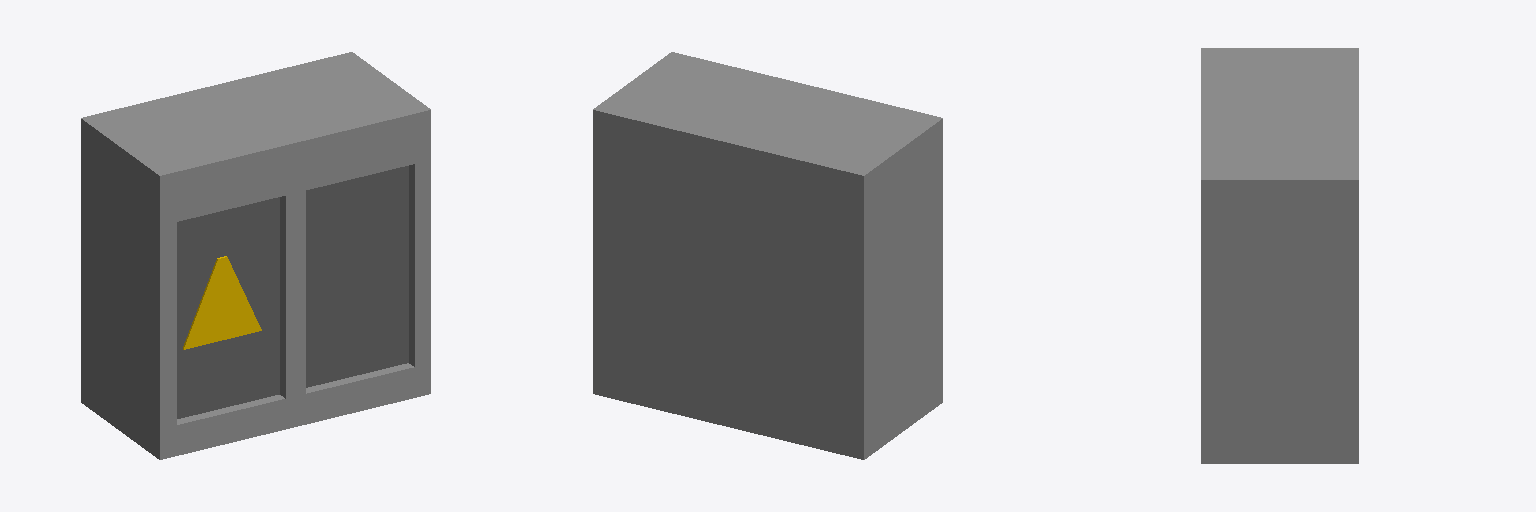
The model's file is PowerGenerator_01.obj.
3 renders of one model, left to right at view 1: azimuth 30°, elevation 25°; view 2: azimuth 150°, elevation 25°; view 3: azimuth 270°, elevation 25°, orthographic.
Parts seen in each view (by area): view 1: PowerGenerator_01_Cube.009; view 2: PowerGenerator_01_Cube.009; view 3: PowerGenerator_01_Cube.009.
Boxes of the visible parts, <box> form: PowerGenerator_01_Cube.009: <box>81,52,430,459</box>; PowerGenerator_01_Cube.009: <box>593,52,942,459</box>; PowerGenerator_01_Cube.009: <box>1201,48,1358,463</box>.
Bounding box in the file's own units: 6.9 × 6.9 × 3.49.